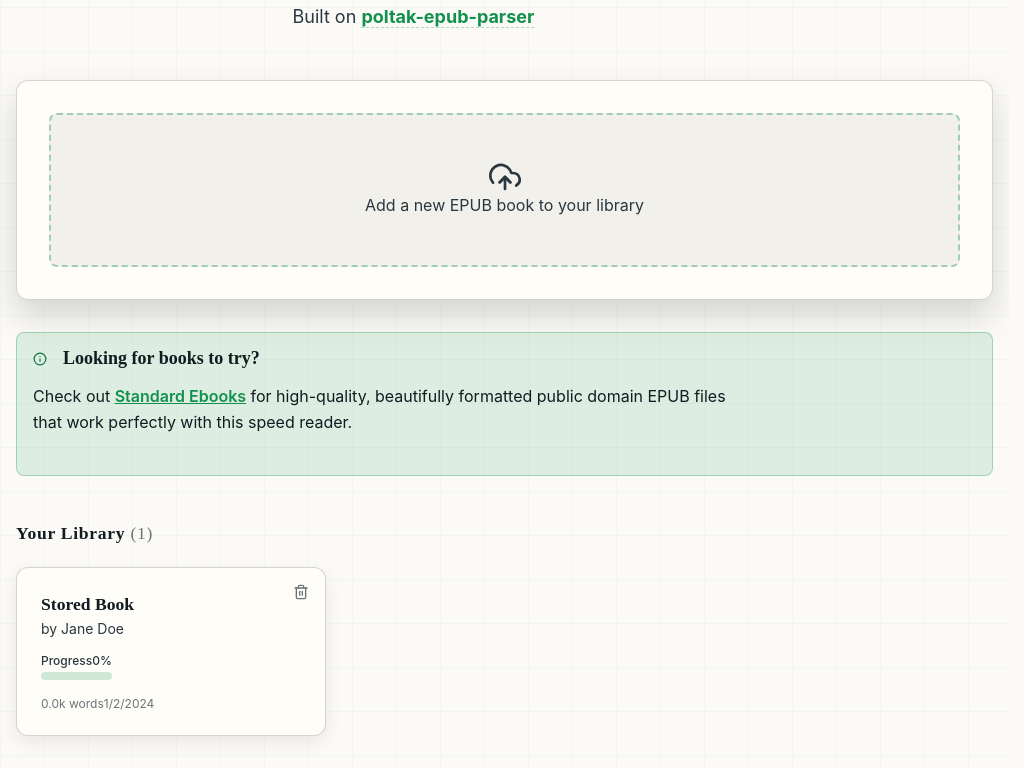
it: SpeedReader page › opens a stored book with keyboard activation
(page scrolled)
Step 1. Press Enter in the button with aria-label "Open Stored Book", box top-left (41, 592), bottom-right (301, 711)
Step 2. Click the button with aria-label "Open Stored Book" → {"x": 171, "y": 652}, box top-left (41, 592), bottom-right (301, 711)
(page scrolled)
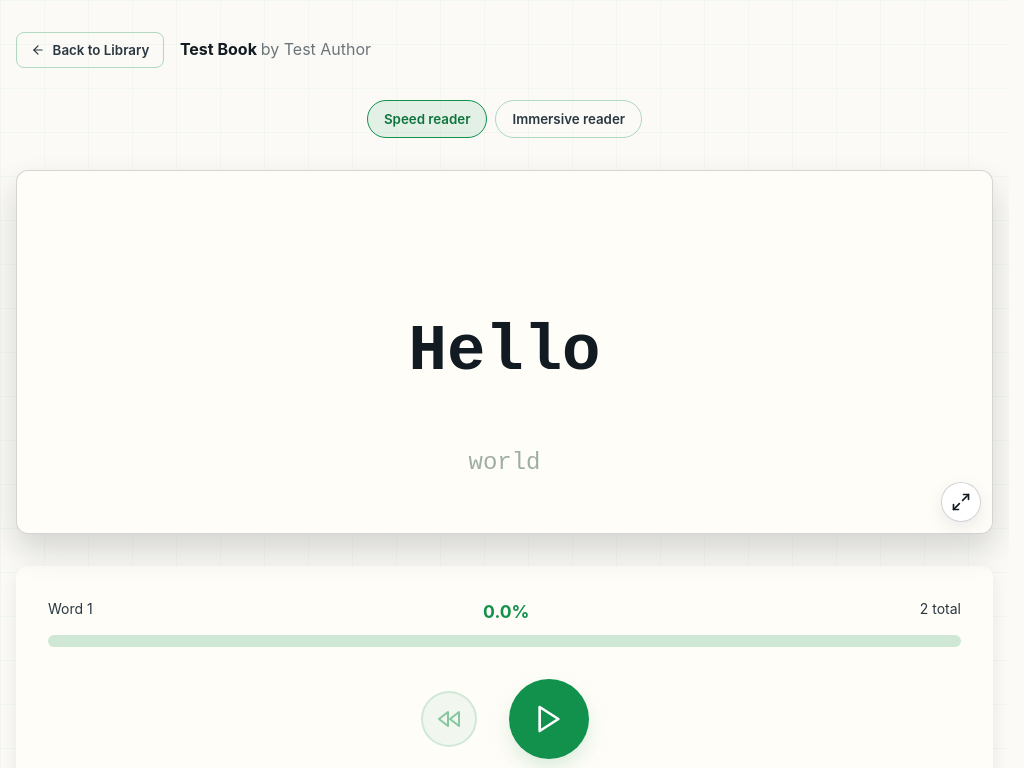
Check: the button "Back to Library" is shown, box top-left (16, 32), bottom-right (164, 68)
